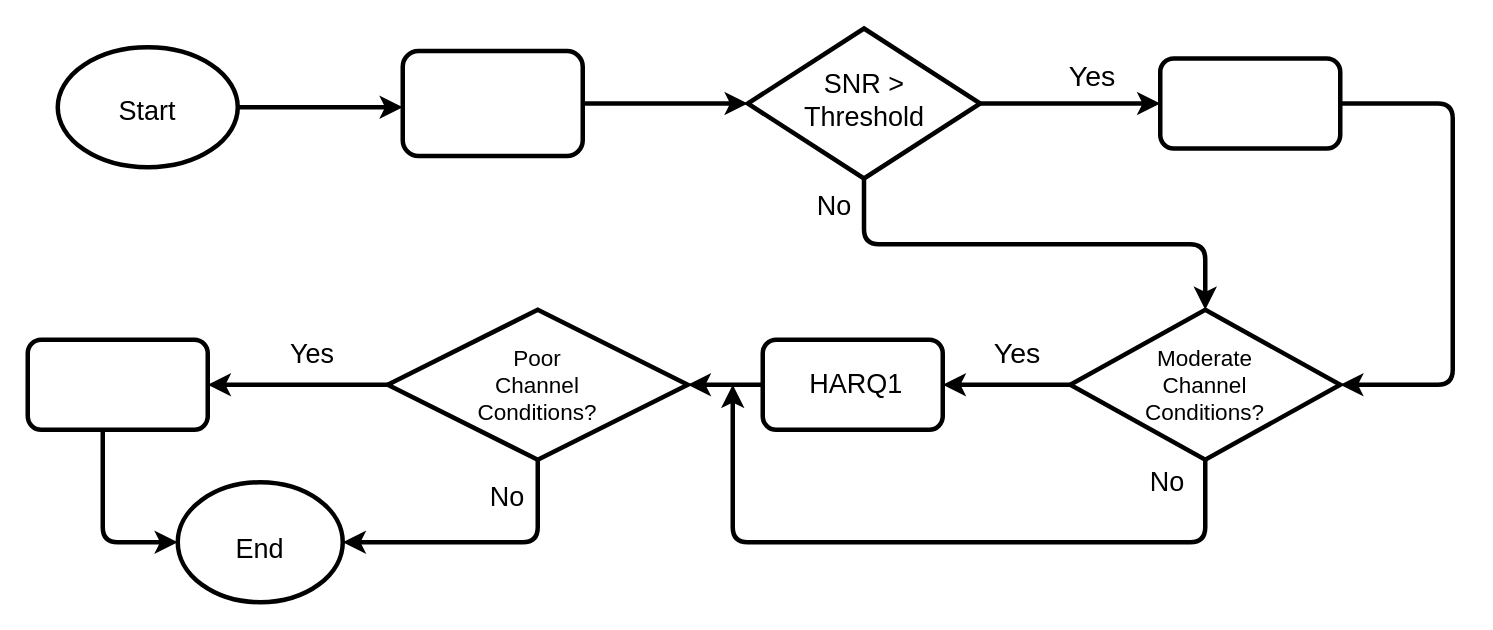
The diagram is 1493 pixels wide and 630 high, and some of its shapes have lost their labels. Each missing label, with the box of its shape:
Estimate Channel Quality: (400, 48, 584, 158)
GBN: (1157, 56, 1342, 150)
HARQ2: (25, 337, 209, 431)
